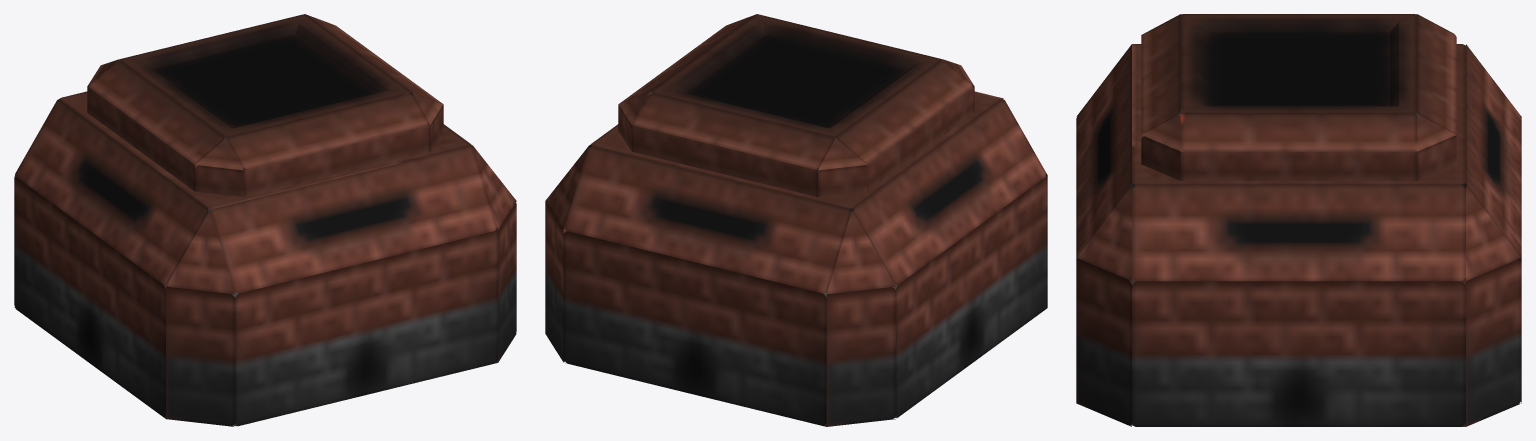
Rendered from smelter.obj.
The picture shows the model from 3 angles, left to right: view 1: azimuth 30°, elevation 25°; view 2: azimuth 150°, elevation 25°; view 3: azimuth 270°, elevation 25°; orthographic projection. The views are drawn at different scales.
Visible parts, largest first — view 1: 2, 1; view 2: 2, 1; view 3: 2, 1.
Part boxes in pixels (x1,y1,x2,y2): 2: (14,91,516,426); 1: (87,14,443,196); 2: (545,91,1047,426); 1: (618,14,974,196); 2: (1076,44,1521,426); 1: (1141,14,1456,180).
Bounding box in the file's own units: 3 × 2 × 3.
